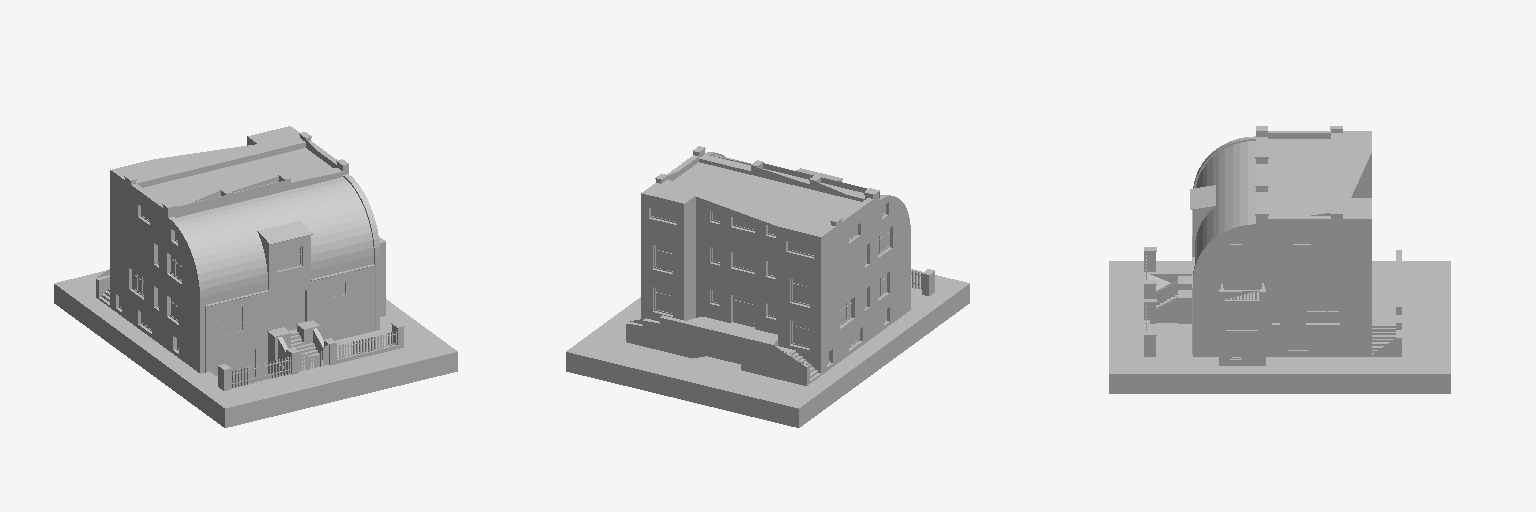
Rendered from Steiner House.obj.
The picture shows the model from 3 angles: view 1: azimuth 30°, elevation 25°; view 2: azimuth 150°, elevation 25°; view 3: azimuth 270°, elevation 25°; orthographic projection.
Visible parts, largest first — view 1: Mesh97 Model, Mesh2 Group2 Model, Mesh1 Group1 Model, Mesh94 Railing2 Model, Mesh93 Railing1 Model; view 2: Mesh97 Model; view 3: Mesh97 Model, Mesh2 Group2 Model, Mesh1 Group1 Model, Mesh93 Railing1 Model, Mesh94 Railing2 Model.
Boxes of the visible parts, x1,y1,x2,y2 form: Mesh97 Model: [54, 126, 457, 427]; Mesh2 Group2 Model: [238, 177, 373, 278]; Mesh1 Group1 Model: [176, 203, 267, 304]; Mesh94 Railing2 Model: [267, 327, 298, 374]; Mesh93 Railing1 Model: [296, 320, 336, 365]; Mesh97 Model: [566, 150, 969, 427]; Mesh97 Model: [1109, 126, 1450, 393]; Mesh2 Group2 Model: [1195, 172, 1255, 262]; Mesh1 Group1 Model: [1196, 141, 1255, 187]; Mesh93 Railing1 Model: [1144, 290, 1191, 323]; Mesh94 Railing2 Model: [1144, 276, 1191, 304].
Bounding box in the file's own units: 2075 × 1382 × 2639.